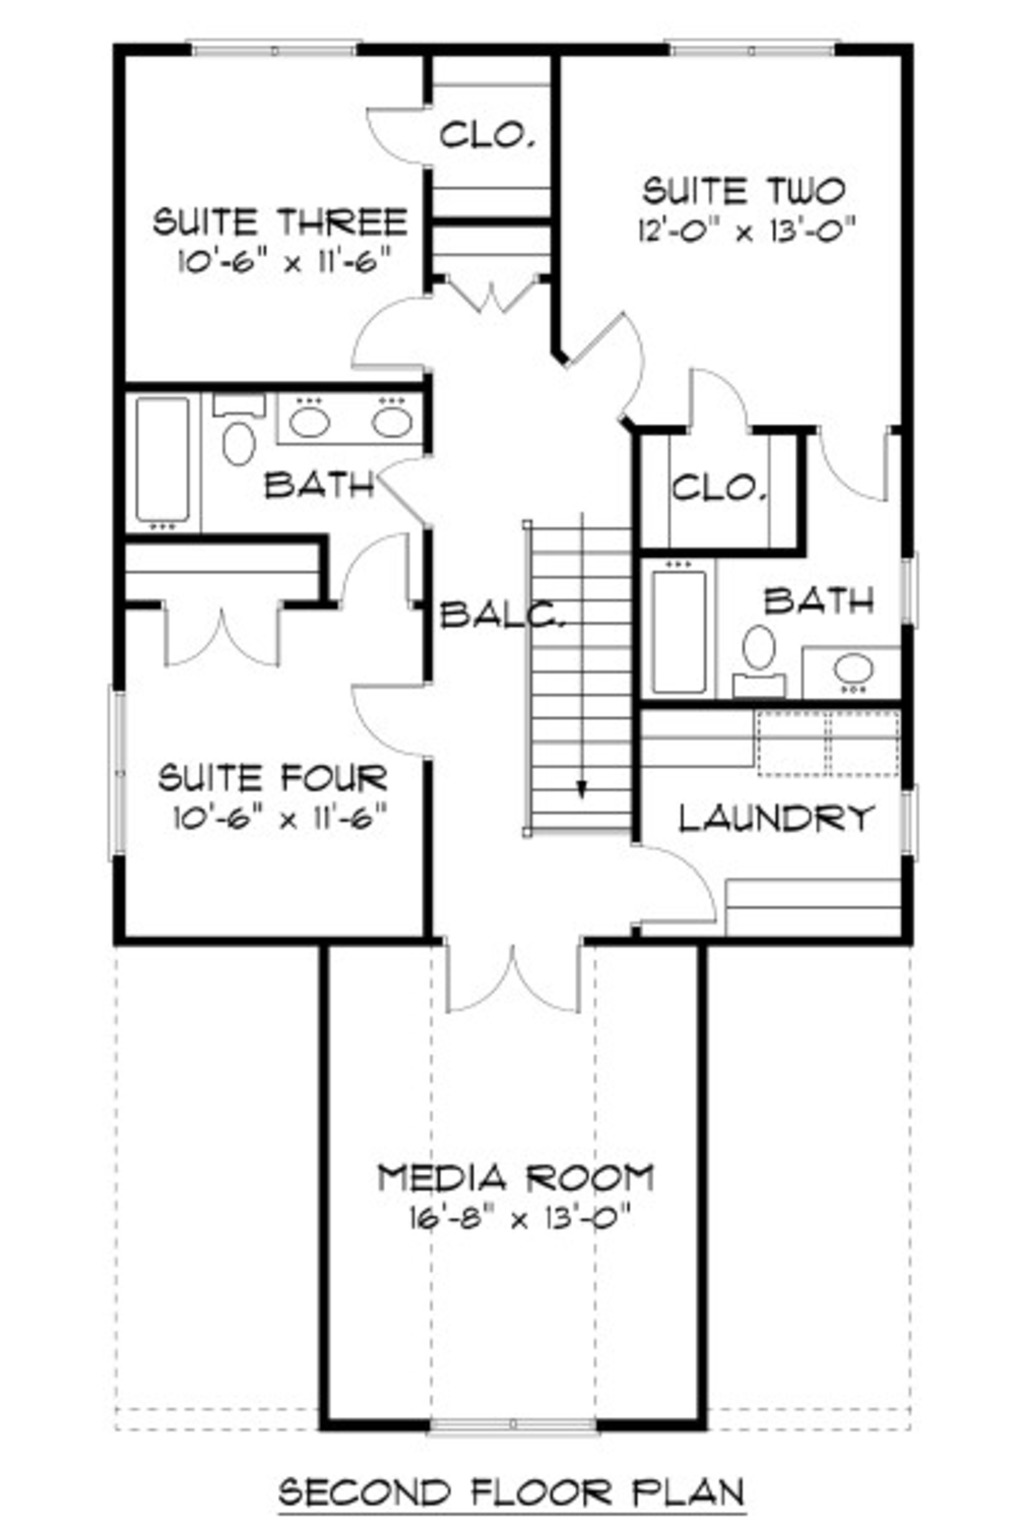door: (142, 586, 295, 688), (435, 931, 581, 1019), (630, 837, 714, 955), (809, 405, 904, 505), (561, 307, 642, 422), (349, 679, 445, 767), (342, 298, 442, 379), (328, 529, 414, 614), (366, 98, 457, 176), (361, 459, 445, 533), (673, 367, 759, 438), (442, 267, 542, 322)
large_sink: (199, 379, 271, 475), (733, 622, 785, 703)
small_sink: (273, 376, 433, 455), (811, 655, 890, 699)
stairs: (521, 510, 635, 837)
tub: (647, 550, 735, 719), (118, 393, 199, 533)
window: (192, 37, 371, 74), (667, 29, 840, 67), (104, 693, 133, 864), (435, 1407, 590, 1435), (890, 783, 930, 879), (891, 550, 930, 638)
